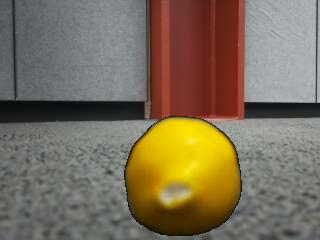lemon: (125, 114, 239, 233)
